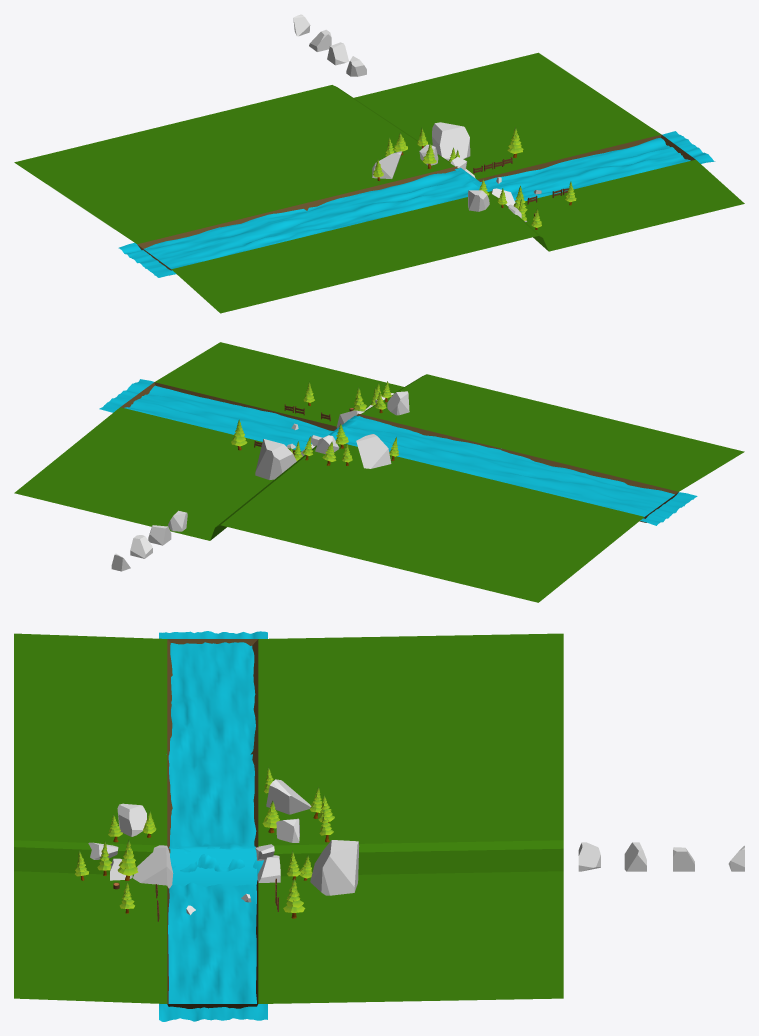
File: WaterfallEnvironmentModel.glb
3 views of the same model, one above another, from view 1: azimuth 30°, elevation 25°; view 2: azimuth 150°, elevation 25°; view 3: azimuth 270°, elevation 25° (orthographic). The views are drawn at different scales.
Parts seen in each view (by area): view 1: Ground, Water.001, Water.002, Cube.008; view 2: Ground, Water.001, Water.002, Cube.008, Cube.011, Cube.010; view 3: Ground, Water.001, Water.002, Waterfall, Cube.008, Cube.004, Cube.011, Cube.010.
Boxes of the visible parts, <box> form: Ground: <box>14,52,744,313</box>; Water.001: <box>118,170,488,277</box>; Water.002: <box>481,131,715,202</box>; Cube.008: <box>432,122,470,160</box>; Ground: <box>14,342,744,602</box>; Water.001: <box>331,416,697,525</box>; Water.002: <box>99,379,333,451</box>; Cube.008: <box>255,439,296,479</box>; Cube.011: <box>356,434,391,468</box>; Cube.010: <box>387,391,409,415</box>; Ground: <box>14,633,563,1008</box>; Water.001: <box>159,631,267,881</box>; Water.002: <box>159,882,267,1021</box>; Waterfall: <box>170,846,256,886</box>; Cube.008: <box>310,840,359,895</box>; Cube.004: <box>133,845,173,888</box>; Cube.011: <box>266,779,311,814</box>; Cube.010: <box>117,803,146,836</box>.
Bounding box in the file's own units: 77.02 × 7.47 × 65.71.
Materials: 8 (2 with a texture image).
